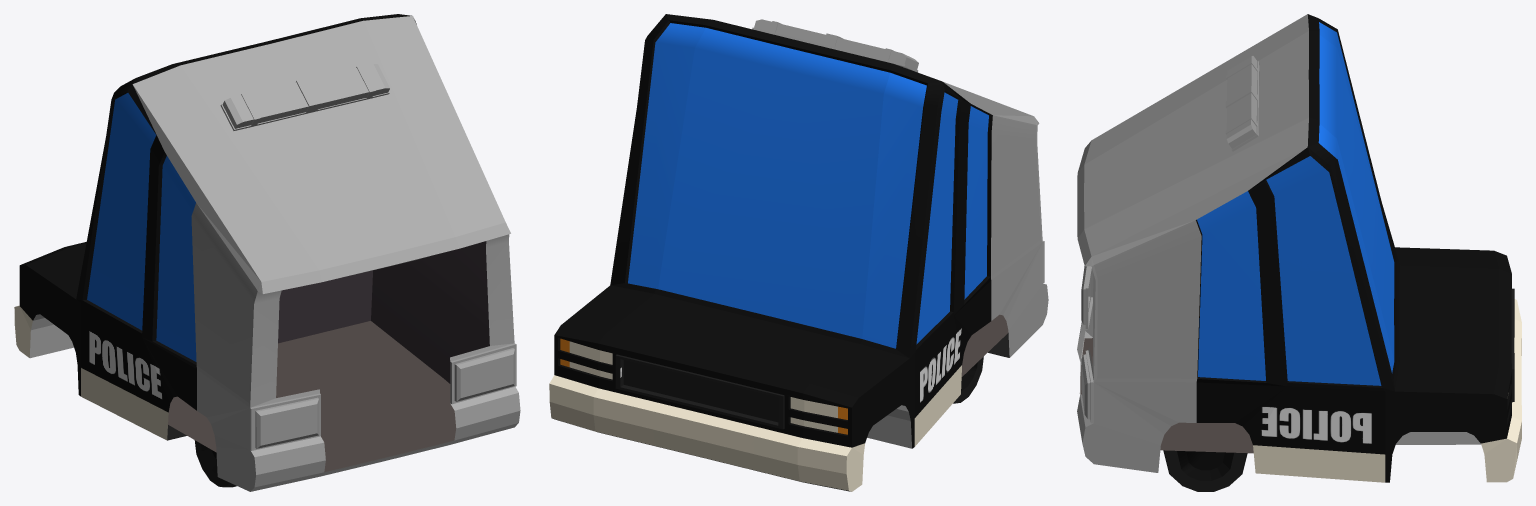
File: police car12.fbx
The picture shows the model from 3 angles, left to right: view 1: azimuth 30°, elevation 25°; view 2: azimuth 150°, elevation 25°; view 3: azimuth 270°, elevation 25°; orthographic projection. The views are drawn at different scales.
Parts seen in each view (by area): view 1: police_car, floor, wall, wheel1; view 2: police_car, floor, wheel1; view 3: police_car, wheel2, floor.
Part boxes in pixels (bbox=[...]): police_car: bbox=[14, 14, 520, 491]; floor: bbox=[167, 321, 456, 472]; wall: bbox=[278, 241, 489, 383]; wheel1: bbox=[194, 440, 236, 487]; police_car: bbox=[549, 14, 1048, 491]; floor: bbox=[961, 314, 1008, 377]; wheel1: bbox=[953, 356, 983, 403]; police_car: bbox=[1077, 14, 1521, 482]; wheel2: bbox=[1163, 450, 1247, 491]; floor: bbox=[1080, 338, 1253, 453].
Size of the model in its own units: 147 by 174 by 192.
